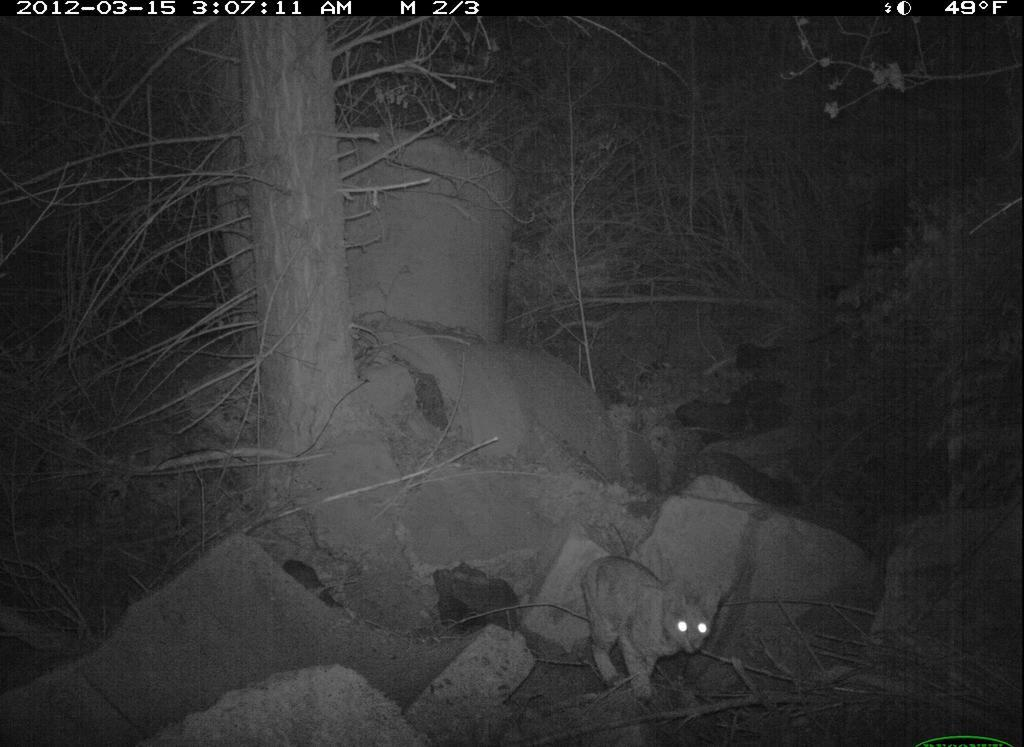bobcat: (564, 552, 726, 716)
